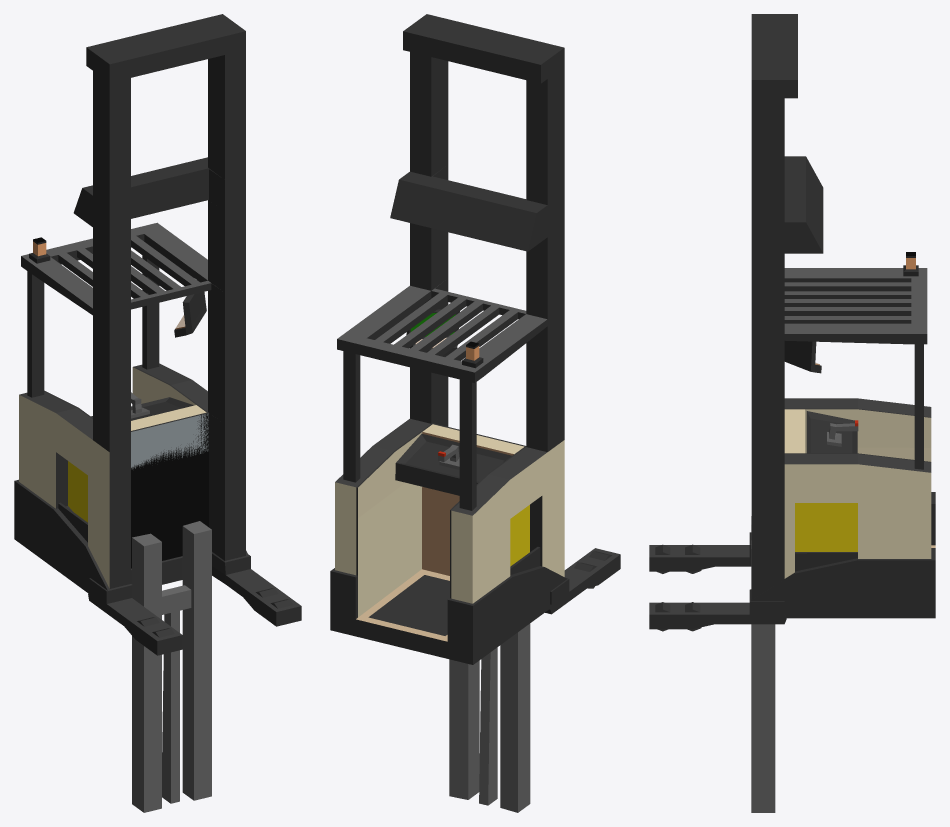
The model's file is Reach-MT.fbx.
3 renders of one model, left to right at view 1: azimuth 30°, elevation 25°; view 2: azimuth 150°, elevation 25°; view 3: azimuth 270°, elevation 25°, orthographic. The views are drawn at different scales.
Parts seen in each view (by area): view 1: ReachChassis, Mast; view 2: ReachChassis, Mast; view 3: ReachChassis, Mast.
Part boxes in pixels (x1,y1,x2,y2): ReachChassis: (14, 14, 301, 655); Mast: (132, 521, 211, 812); ReachChassis: (330, 14, 620, 664); Mast: (449, 623, 530, 812); ReachChassis: (649, 14, 935, 631); Mast: (751, 516, 775, 812).
Size of the model in its own units: 110 by 552 by 191.
